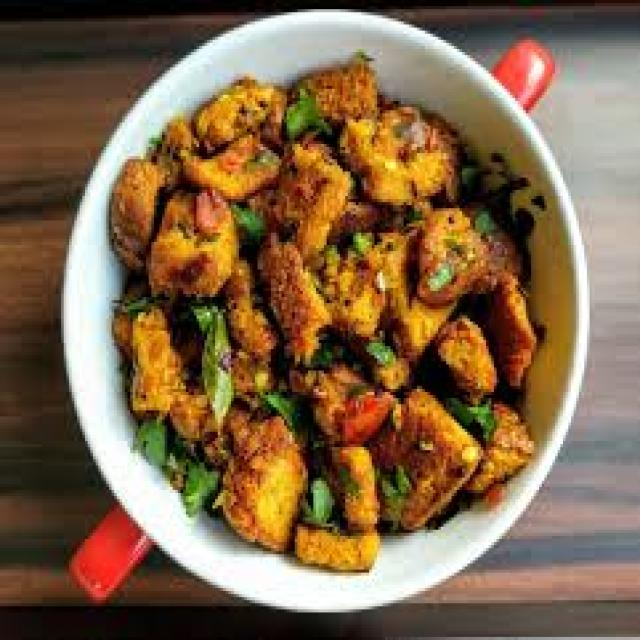BAJI: (106, 58, 539, 567)
